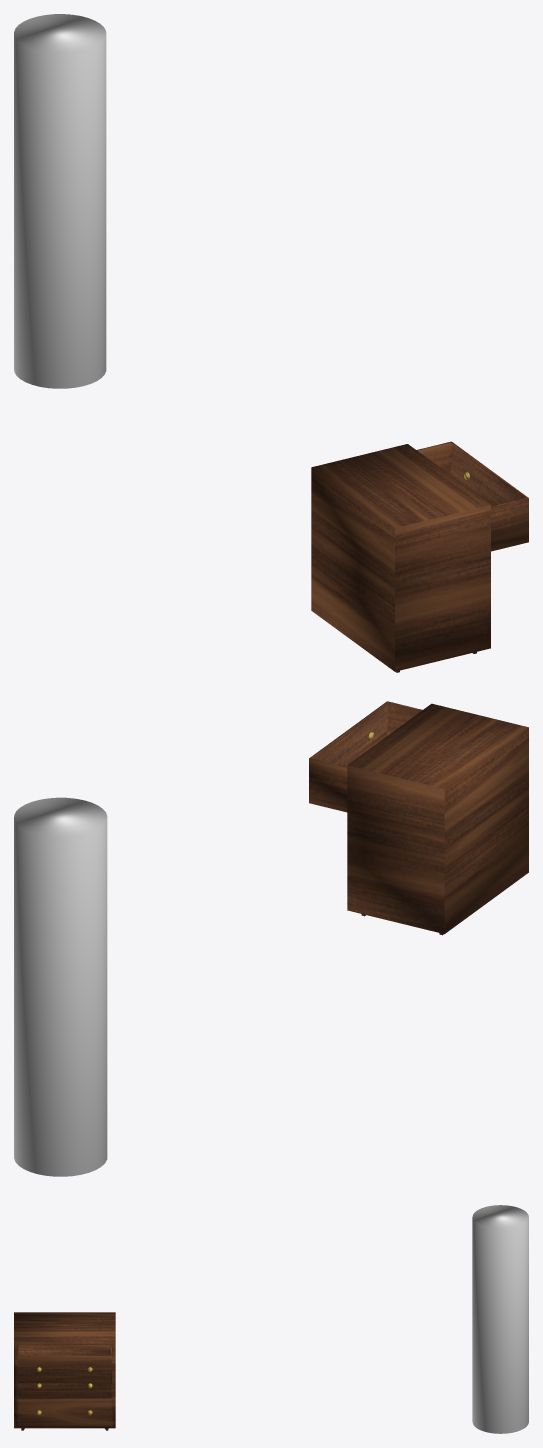
File: night_stand.glb
The picture shows the model from 3 angles, top to bottom: view 1: azimuth 30°, elevation 25°; view 2: azimuth 150°, elevation 25°; view 3: azimuth 270°, elevation 25°; orthographic projection. The views are drawn at different scales.
Parts seen in each view (by area): view 1: Ref -noimp, NightStand -col, Drawer -col; view 2: Ref -noimp, NightStand -col, Drawer -col; view 3: Ref -noimp, NightStand -col, Drawer -col.
Boxes of the visible parts, box(x1,y1,x2,y2) form: Ref -noimp: box(14, 14, 106, 388); NightStand -col: box(311, 444, 490, 672); Drawer -col: box(416, 441, 528, 551); Ref -noimp: box(14, 797, 107, 1176); NightStand -col: box(347, 703, 528, 935); Drawer -col: box(309, 701, 422, 812); Ref -noimp: box(472, 1205, 528, 1433); NightStand -col: box(14, 1312, 115, 1430); Drawer -col: box(17, 1345, 111, 1383).
Size of the model in its own units: 0.8882 by 2.01 by 4.56.
Materials: 2 (2 with a texture image).
